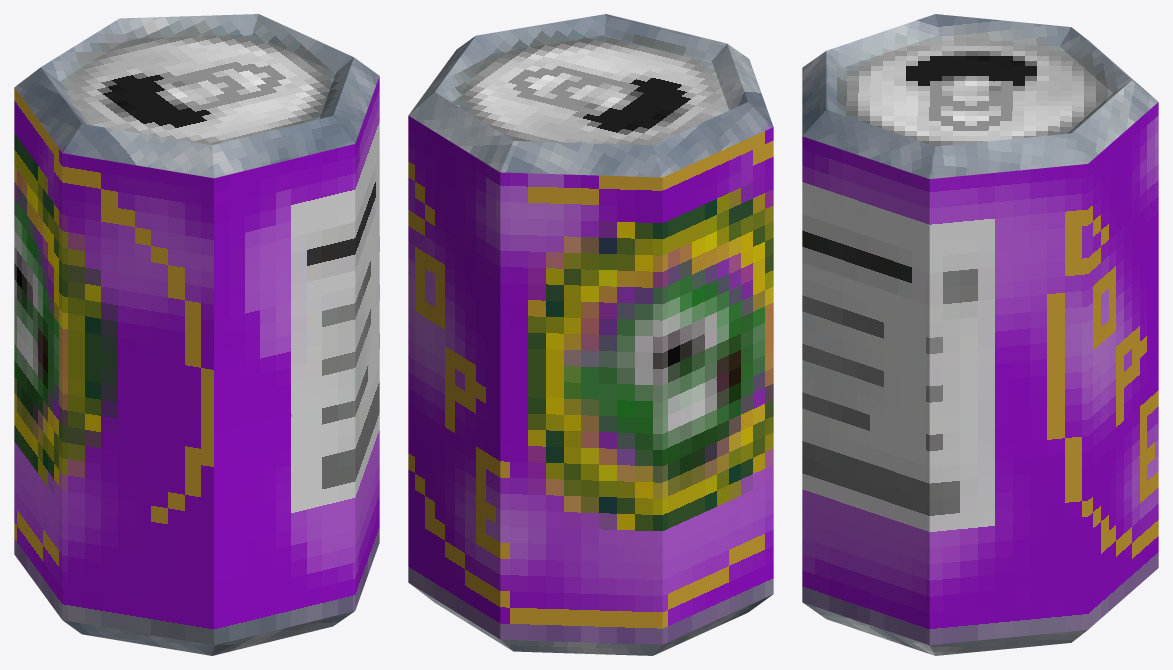
The model's file is SodaCan.fbx.
The picture shows the model from 3 angles, left to right: view 1: azimuth 30°, elevation 25°; view 2: azimuth 150°, elevation 25°; view 3: azimuth 270°, elevation 25°; orthographic projection.
Parts seen in each view (by area): view 1: Soda Can; view 2: Soda Can; view 3: Soda Can.
Boxes of the visible parts, bbox=[...] form: Soda Can: bbox=[14, 14, 379, 655]; Soda Can: bbox=[408, 14, 773, 655]; Soda Can: bbox=[802, 14, 1158, 655].
Bounding box in the file's own units: 15.6 × 24 × 15.21.
